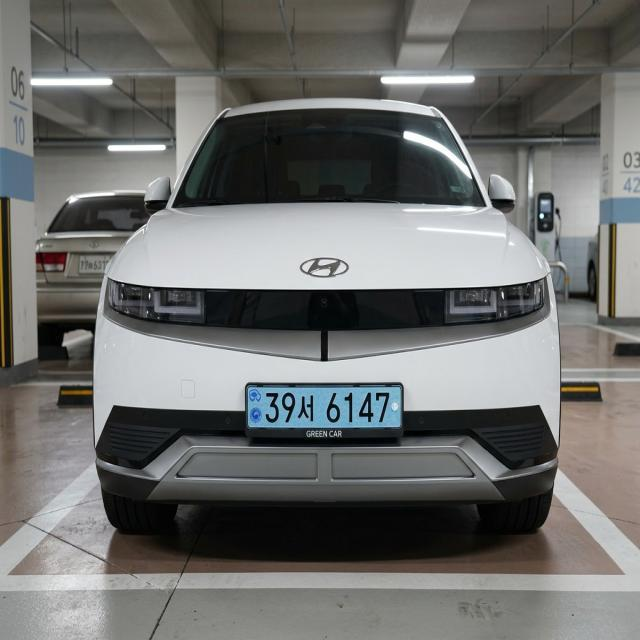car: (225, 369, 431, 462)
carev: (389, 384, 405, 434), (247, 385, 263, 432)
